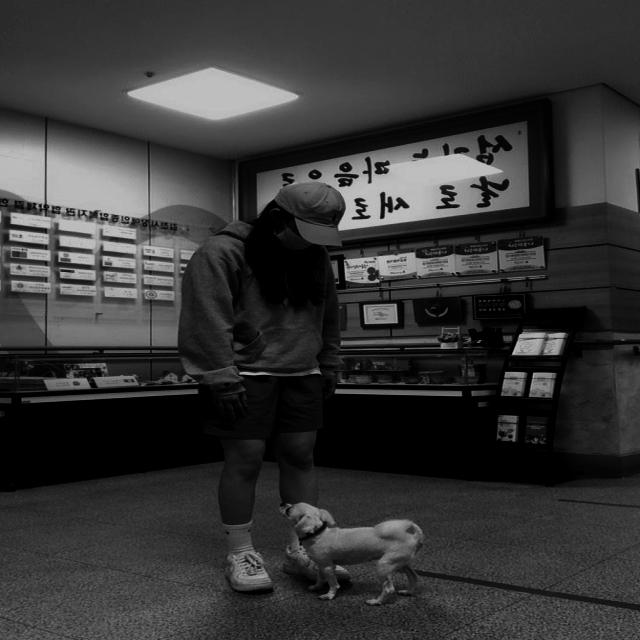hoodies: (180, 216, 344, 390)
shortpants: (196, 364, 322, 446)
